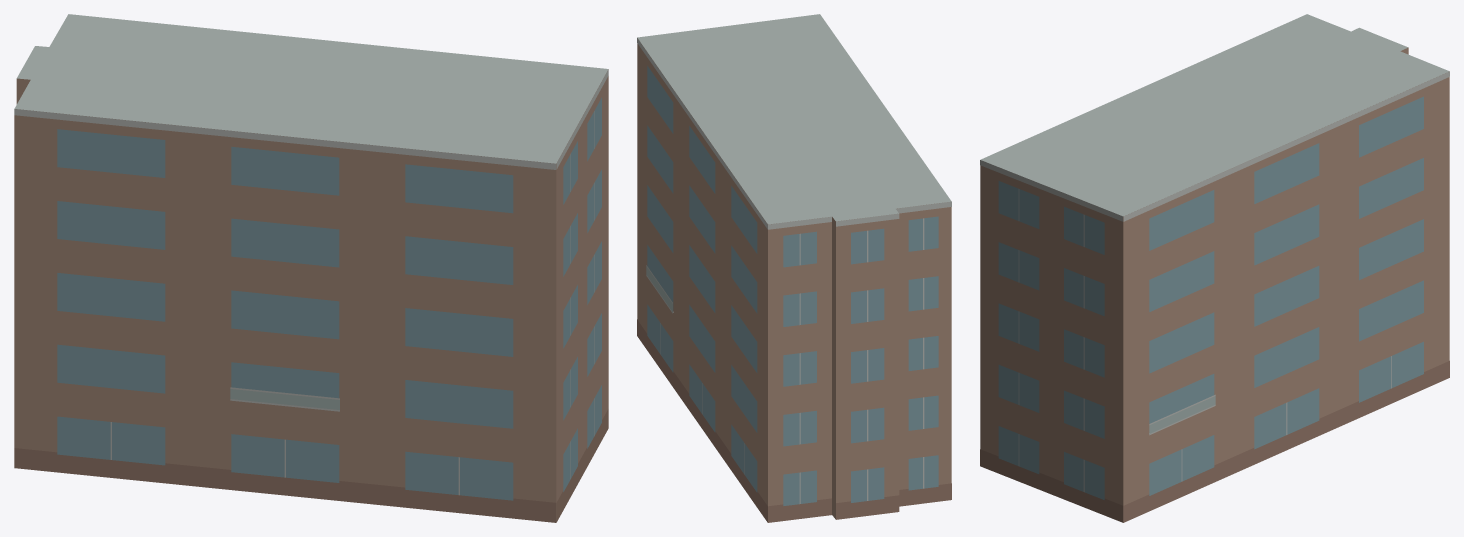
File: survey-upis-32942634.glb
3 renders of one model, left to right at view 1: azimuth 30°, elevation 25°; view 2: azimuth 150°, elevation 25°; view 3: azimuth 270°, elevation 25°, orthographic. The views are drawn at different scales.
Parts seen in each view (by area): view 1: survey-upis-32942634.tmp; view 2: survey-upis-32942634.tmp; view 3: survey-upis-32942634.tmp.
Part boxes in pixels (x1,y1,x2,y2): survey-upis-32942634.tmp: (14,14,608,522); survey-upis-32942634.tmp: (637,14,951,522); survey-upis-32942634.tmp: (980,14,1449,522).
Bounding box in the file's own units: 19.42 × 13.7 × 19.04.
